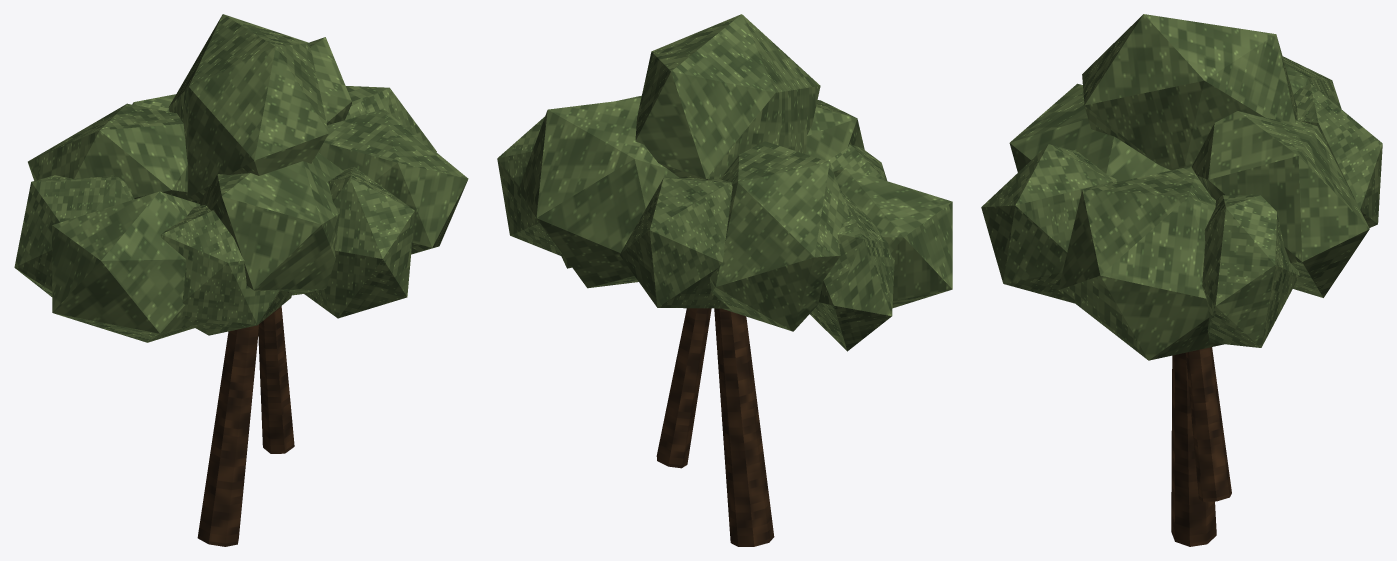
File: nodo-tree-olive-v2-D7kVSvPP.glb
The picture shows the model from 3 angles, left to right: view 1: azimuth 30°, elevation 25°; view 2: azimuth 150°, elevation 25°; view 3: azimuth 270°, elevation 25°; orthographic projection. The views are drawn at different scales.
Visible parts, largest first — view 1: nodo-tree-olive-v2-realista; view 2: nodo-tree-olive-v2-realista; view 3: nodo-tree-olive-v2-realista.
Part boxes in pixels (left/top/right/bottom): nodo-tree-olive-v2-realista: left=14, top=14, right=468, bottom=546; nodo-tree-olive-v2-realista: left=497, top=14, right=952, bottom=546; nodo-tree-olive-v2-realista: left=981, top=14, right=1382, bottom=546.
Size of the model in its own units: 20.57 by 24.03 by 16.17.
1 material, 1 textured.
